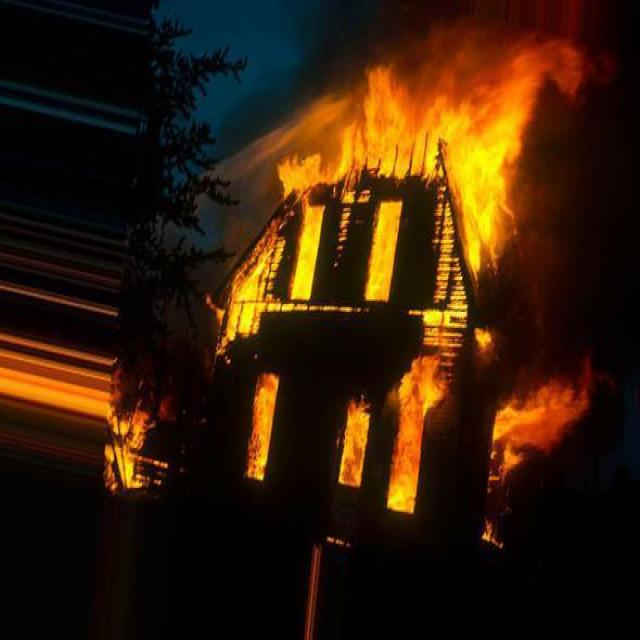fire: (217, 14, 595, 553), (110, 355, 165, 508)
